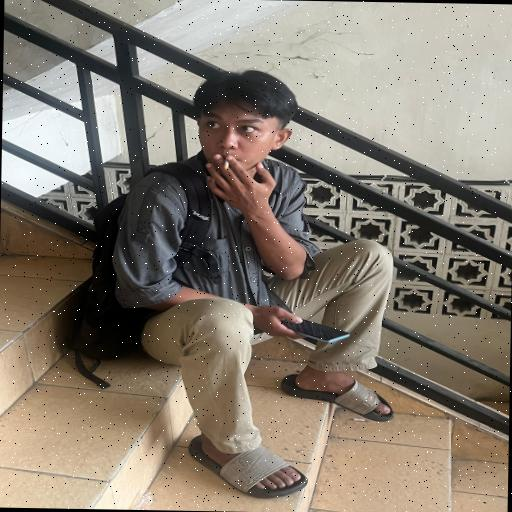merokok: (172, 111, 269, 204)
